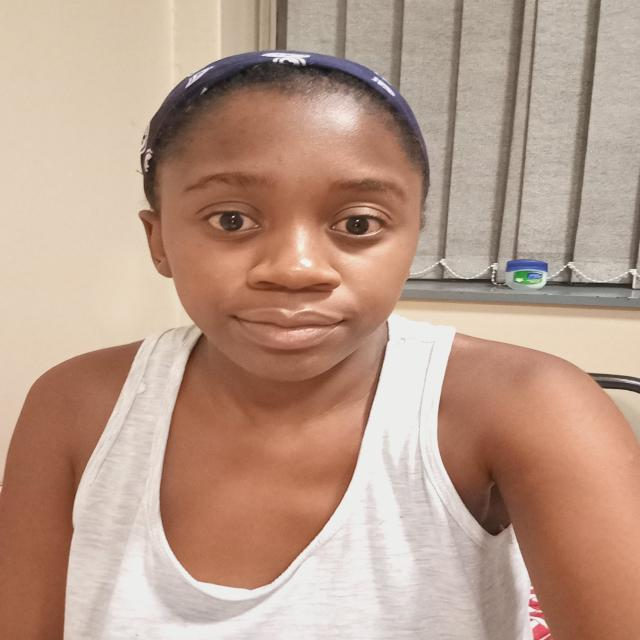eyebrow: (332, 178, 410, 204), (182, 173, 274, 189)
